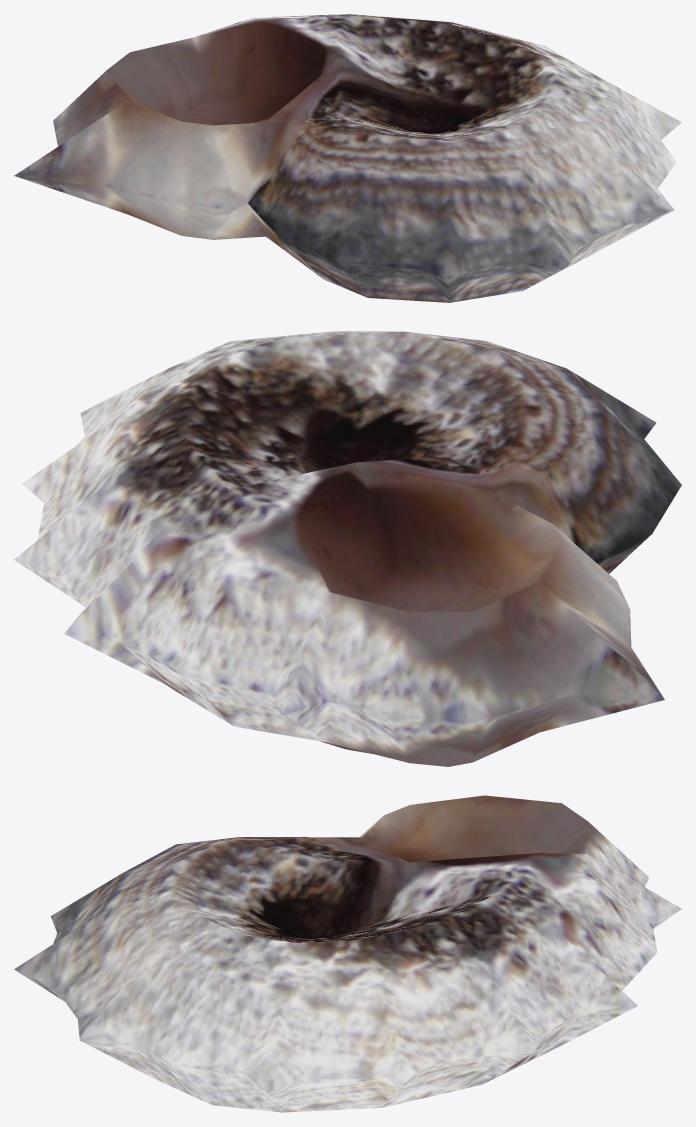
The model's file is SeaShell-05_LOD0_FattooCreater.glb.
3 views of the same model, one above another, from view 1: azimuth 30°, elevation 25°; view 2: azimuth 150°, elevation 25°; view 3: azimuth 270°, elevation 25° (orthographic). The views are drawn at different scales.
Parts seen in each view (by area): view 1: SeaShell-05_high; view 2: SeaShell-05_high; view 3: SeaShell-05_high.
Boxes of the visible parts, left/top/right/bottom form: SeaShell-05_high: left=14, top=14, right=681, bottom=302; SeaShell-05_high: left=14, top=331, right=681, bottom=766; SeaShell-05_high: left=14, top=795, right=681, bottom=1112.
Size of the model in its own units: 0.0235 by 0.00642 by 0.023.
Materials: 1 (1 with a texture image).
